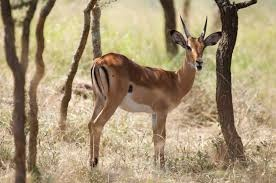impala: (82, 12, 224, 174)
